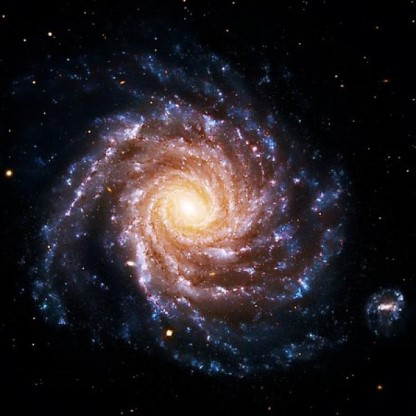NGC 1232: (19, 34, 410, 377)
